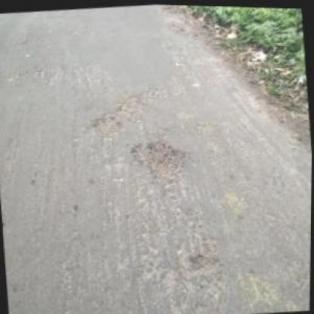Hueco: (128, 132, 192, 184), (90, 92, 148, 134), (189, 251, 216, 272)
